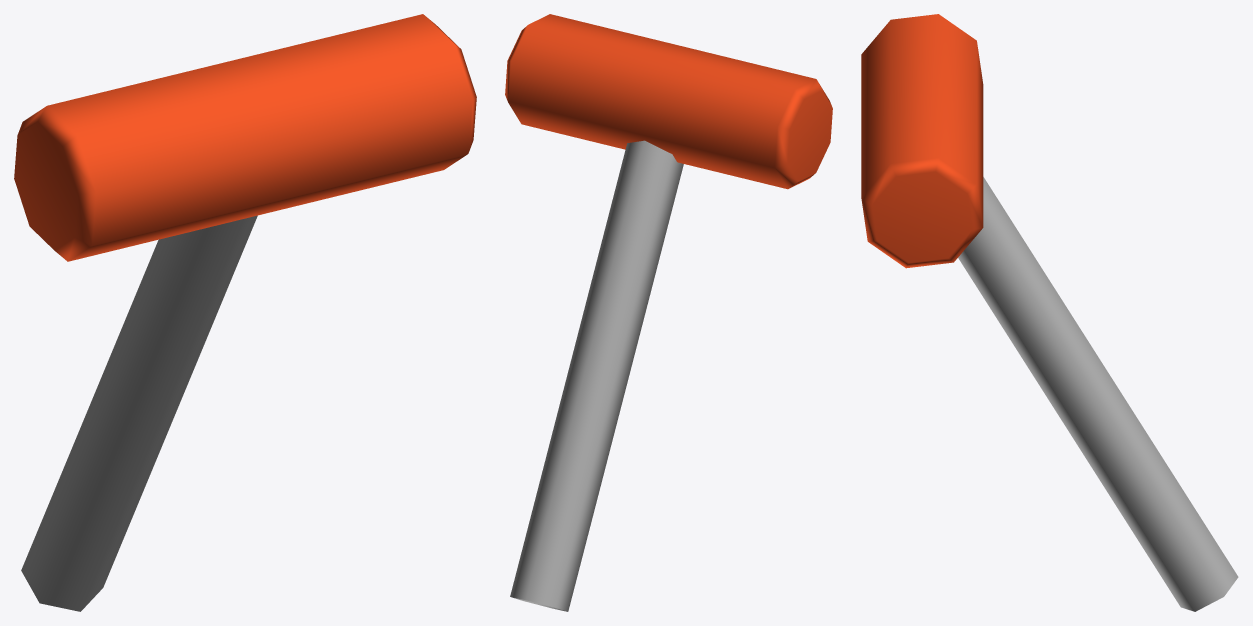
Rendered from console_1_002.fbx.
3 renders of one model, left to right at view 1: azimuth 30°, elevation 25°; view 2: azimuth 150°, elevation 25°; view 3: azimuth 270°, elevation 25°, orthographic. The views are drawn at different scales.
Visible parts, largest first — view 1: console_1_002; view 2: console_1_002; view 3: console_1_002.
Part boxes in pixels (x1,y1,x2,y2): console_1_002: (14, 14, 476, 611); console_1_002: (505, 14, 832, 611); console_1_002: (861, 14, 1238, 611).
Size of the model in its own units: 61.98 by 64.77 by 98.8.
